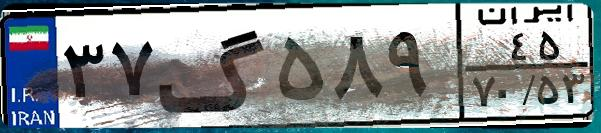0: (495, 70, 520, 125)
3: (57, 26, 110, 100), (560, 70, 590, 125)
4: (508, 27, 537, 80)
5: (270, 28, 330, 110), (537, 27, 568, 80), (535, 70, 560, 125)
7: (110, 28, 156, 98), (470, 70, 495, 125)
8: (330, 28, 385, 110)
9: (385, 28, 445, 110)
گ: (156, 12, 270, 120)
